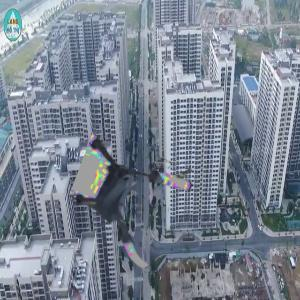drone: (70, 149, 188, 267)
